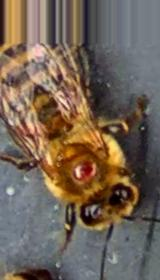varroa_mite: (59, 153, 102, 183)
